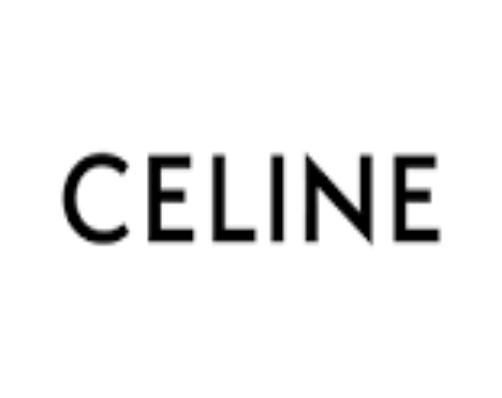CELINE: (61, 133, 463, 256)
